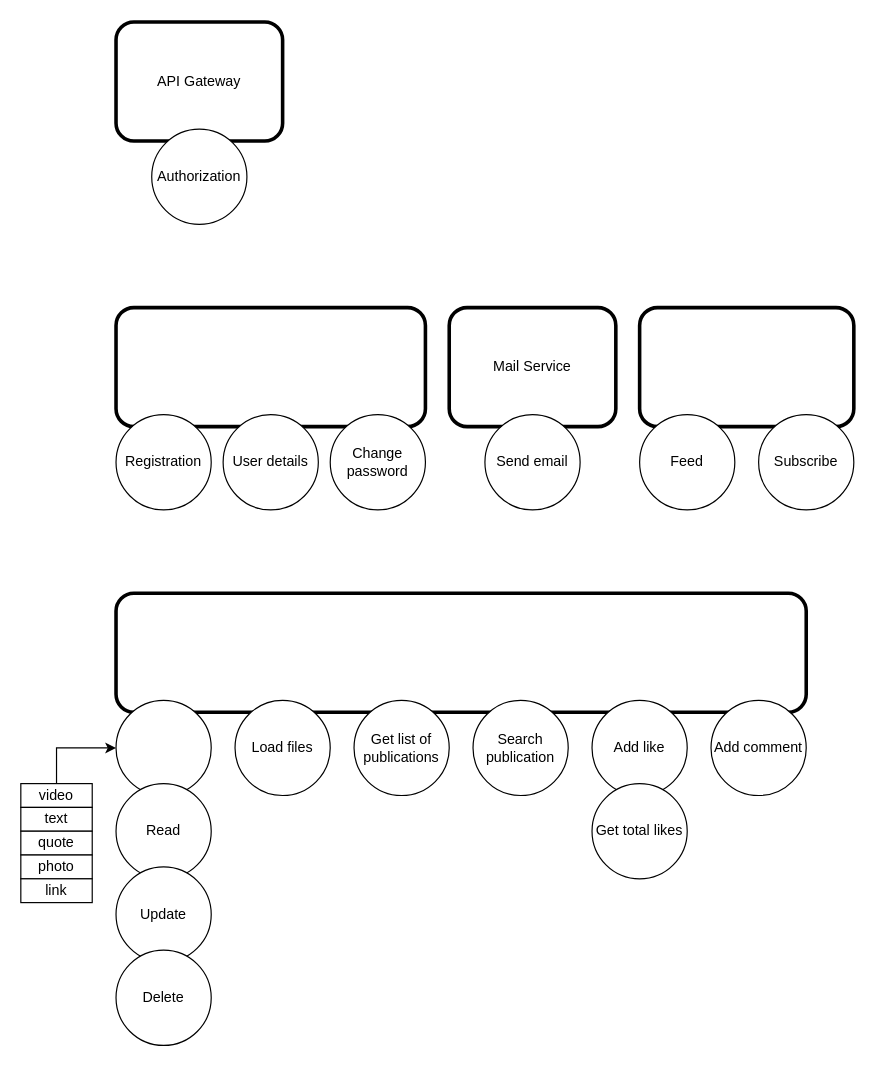
Image size: 876x1066. Some labels were removed from this diagram. Here are the shapes that lost their labels. From the top down, the centre of each, then its label:
At (x=270, y=366): "User Data Service".
At (x=746, y=366): "User Service".
At (x=460, y=652): "Publication Service".
At (x=163, y=747): "Create".
